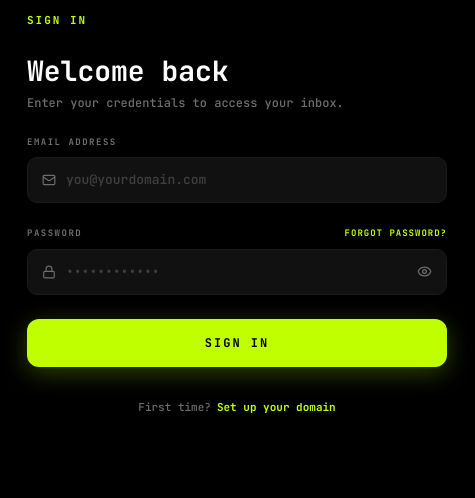
LoginPage › surfaces backend error on failed sign-in
Type "user@example.com" into the field with placeholder "you@yourdomain.com".
click(249, 180); type("user@example.com")  # box left=66, top=170, right=432, bottom=190
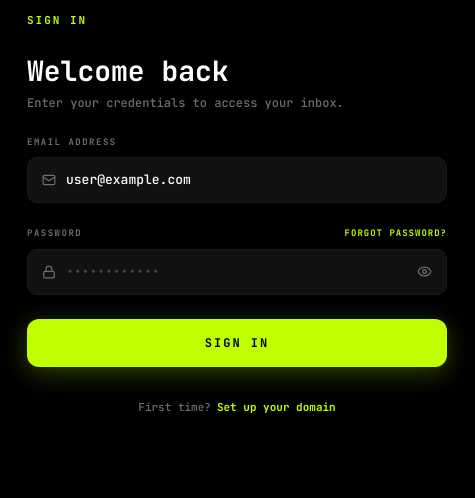
Type "Password123" into the password field with placeholder "••••••••••••".
click(236, 272); type("Password123")  # box left=66, top=262, right=407, bottom=281
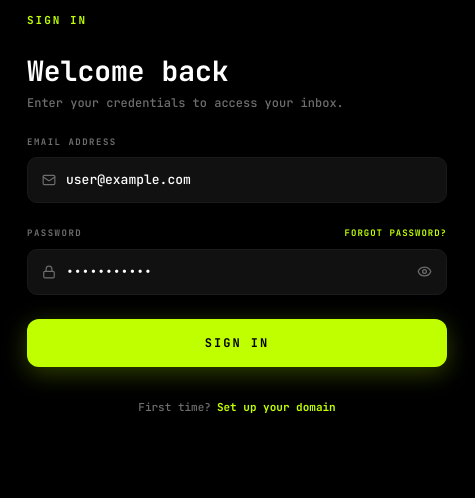
Click the button "Sign in".
click(237, 342)  # box left=27, top=318, right=447, bottom=366
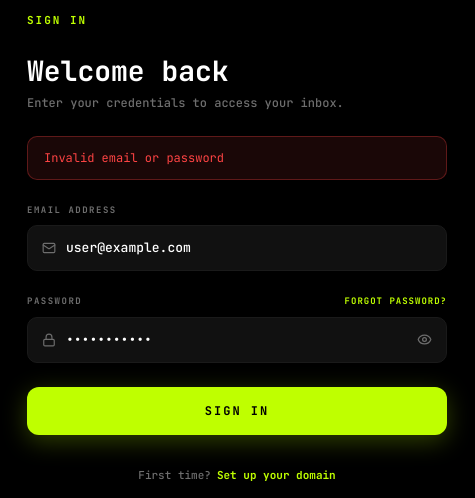
Check: the text "Invalid email or password" is shown, box left=44, top=150, right=224, bottom=166
